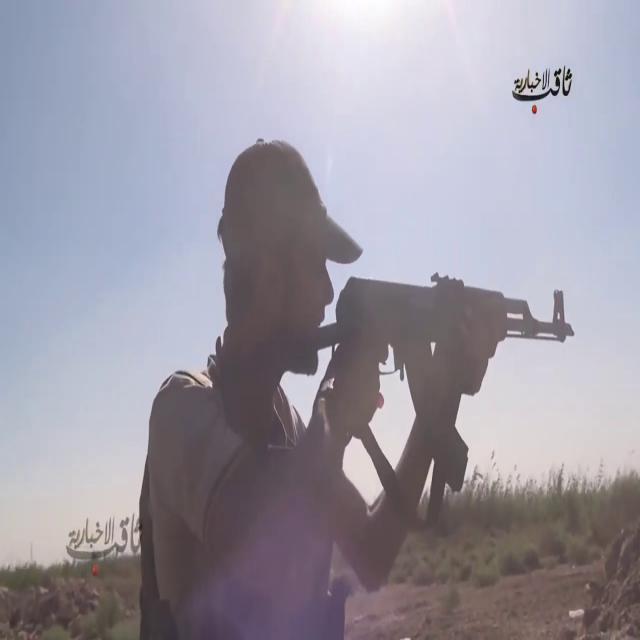long weapon: (318, 254, 612, 502)
